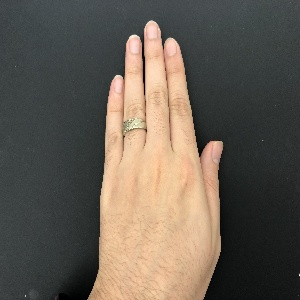hand: (98, 20, 220, 295)
